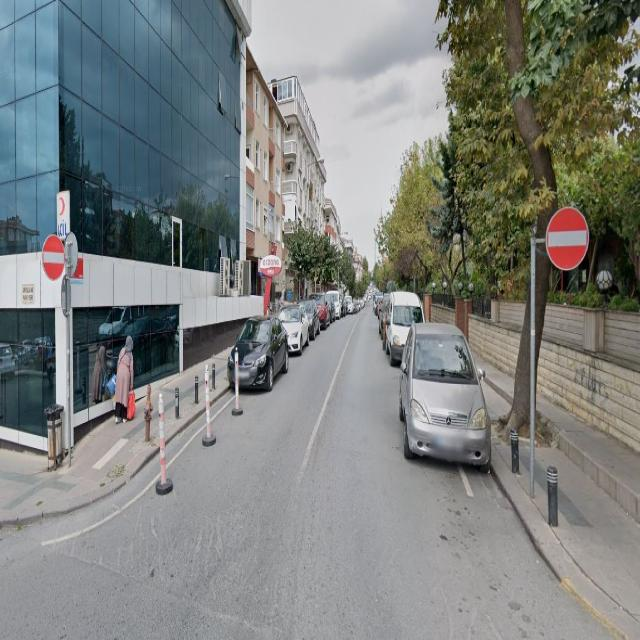girisyok: (546, 206, 588, 270), (42, 235, 64, 282)
